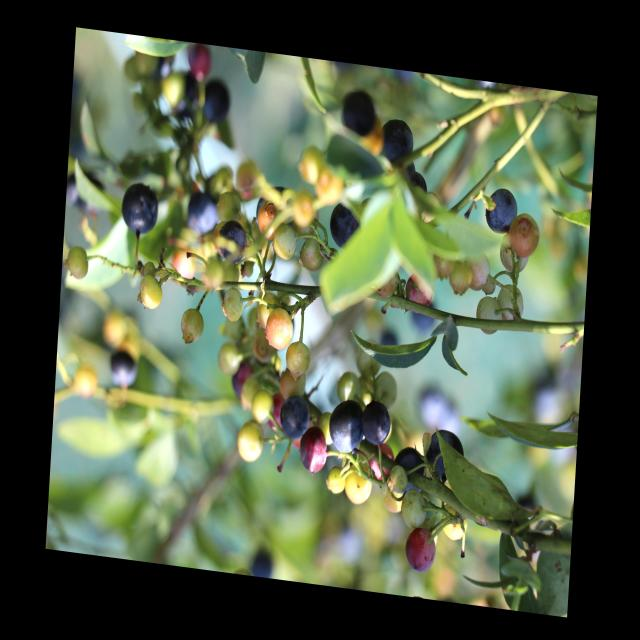blueberry: (423, 422, 465, 487), (120, 178, 162, 242), (326, 396, 366, 458), (378, 113, 418, 174), (328, 202, 364, 257), (392, 444, 426, 499), (185, 188, 222, 238), (485, 186, 520, 238), (216, 214, 248, 269), (280, 394, 310, 444), (202, 76, 232, 124), (362, 400, 393, 445), (107, 348, 137, 389)
blueberry-halfripe: (296, 425, 330, 476), (403, 528, 437, 577), (510, 208, 541, 259), (405, 271, 434, 316)
blueberry-unripe: (474, 292, 505, 340), (235, 419, 266, 464), (178, 302, 206, 351), (219, 280, 249, 325), (264, 305, 294, 350), (498, 277, 526, 325), (342, 462, 371, 508), (136, 271, 166, 315), (467, 245, 493, 295), (254, 196, 281, 244), (297, 232, 326, 274), (269, 223, 299, 262), (400, 487, 427, 530), (283, 338, 312, 377), (216, 340, 244, 380), (64, 242, 90, 283), (251, 388, 276, 428), (448, 259, 470, 295), (382, 482, 405, 515), (323, 468, 345, 498)
